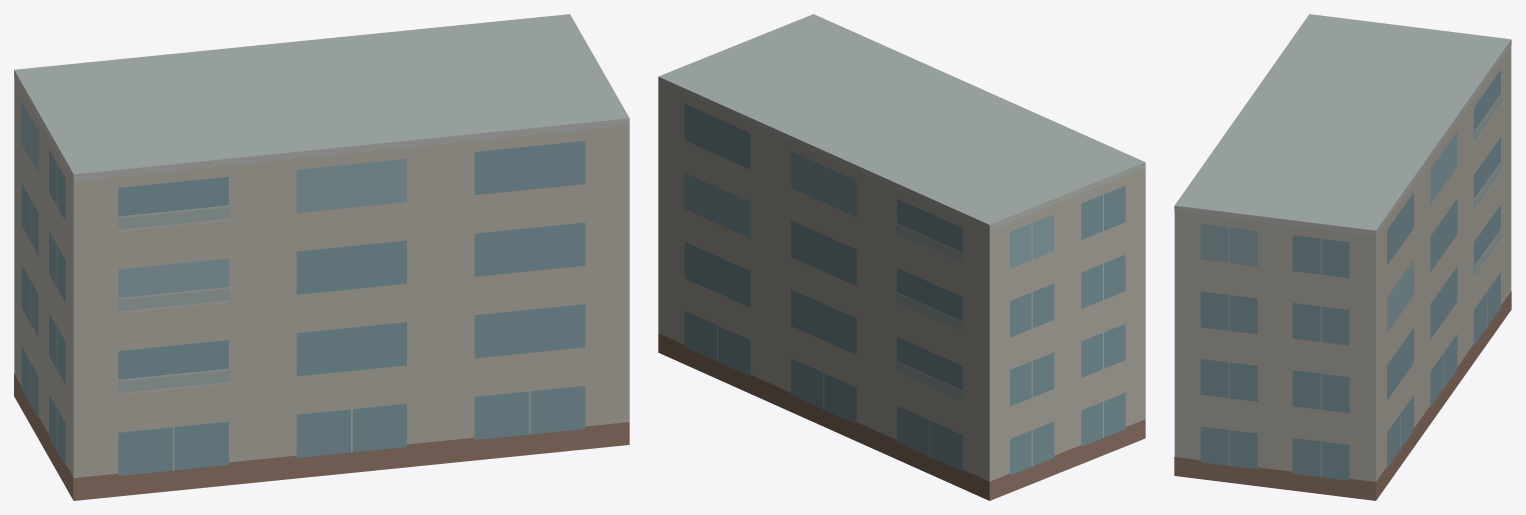
The model's file is survey-upis-33035508.glb.
3 views of the same model, side by side, from view 1: azimuth 30°, elevation 25°; view 2: azimuth 150°, elevation 25°; view 3: azimuth 270°, elevation 25° (orthographic). The views are drawn at different scales.
Parts seen in each view (by area): view 1: survey-upis-33035508.tmp; view 2: survey-upis-33035508.tmp; view 3: survey-upis-33035508.tmp.
Part boxes in pixels (x1,y1,x2,y2): survey-upis-33035508.tmp: (14, 14, 629, 500); survey-upis-33035508.tmp: (658, 14, 1145, 500); survey-upis-33035508.tmp: (1174, 14, 1511, 500).
Size of the model in its own units: 19.78 by 11.5 by 13.01.
